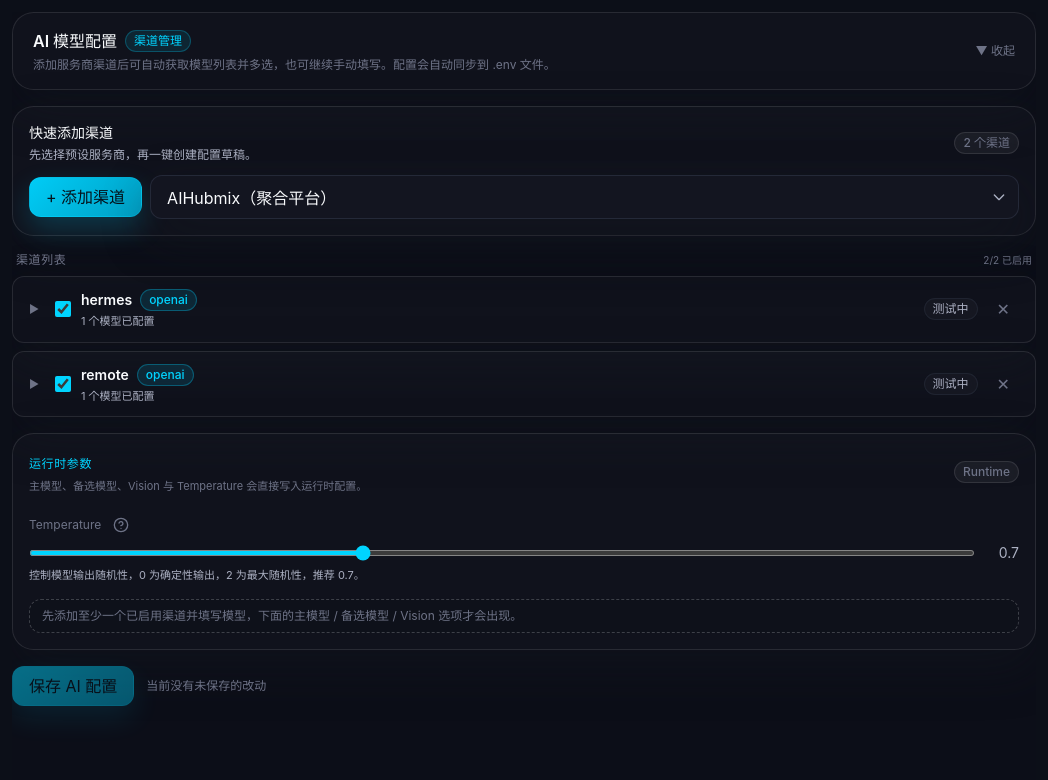
Test: LLMChannelEditor › rejects bare mixed Hermes route before saving runtime generation config
Set the slider to "0.2". click: point(130, 552)
box: [29,550,975,556]
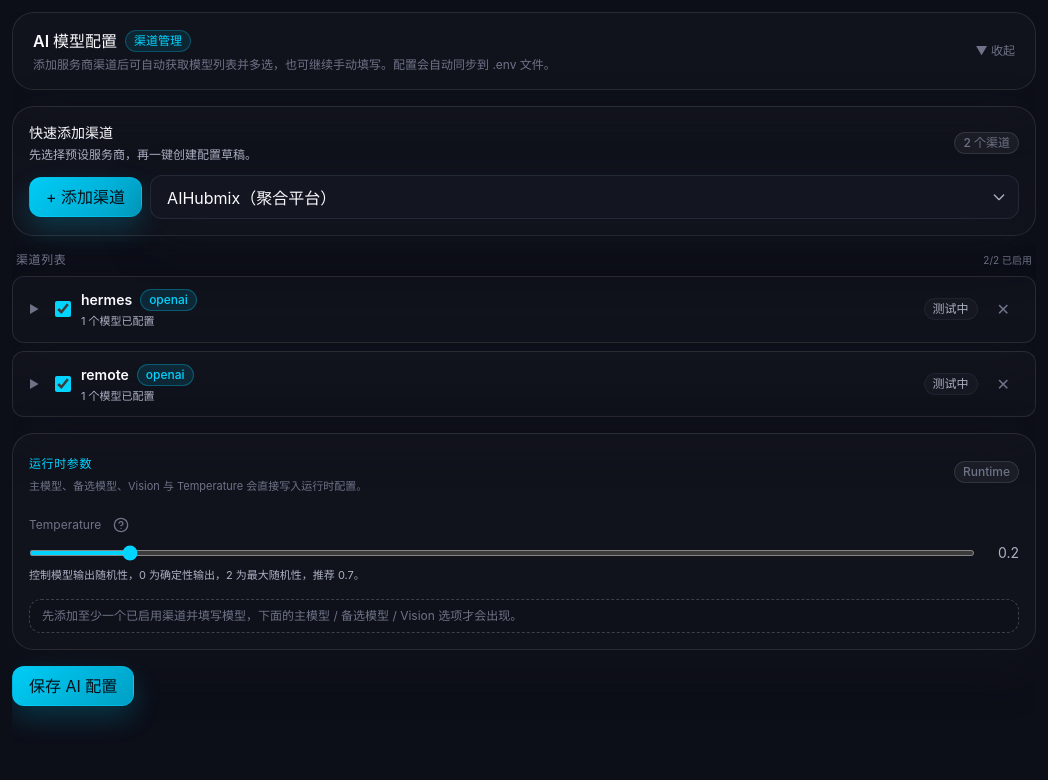
Click the button "保存 AI 配置". click: point(73, 686)
box: [12,666,134,706]
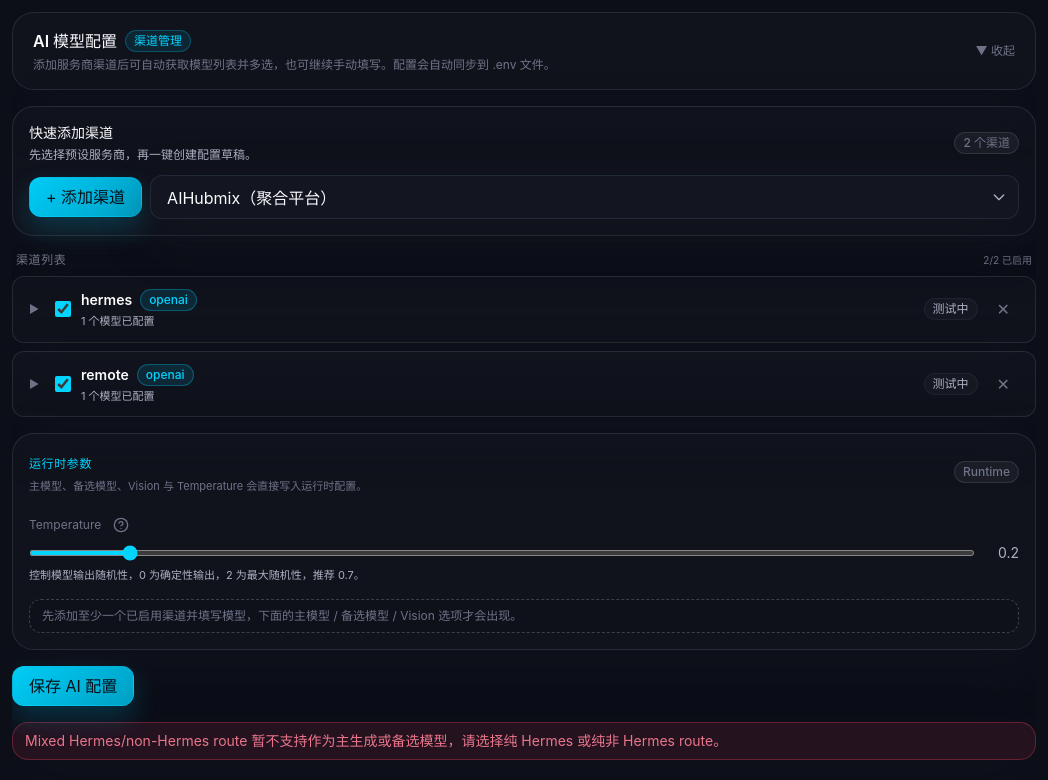
Expected: the text "Mixed Hermes/non-Hermes route 暂不支持作为主生成或备选模型" is shown, [25,732,727,749]
